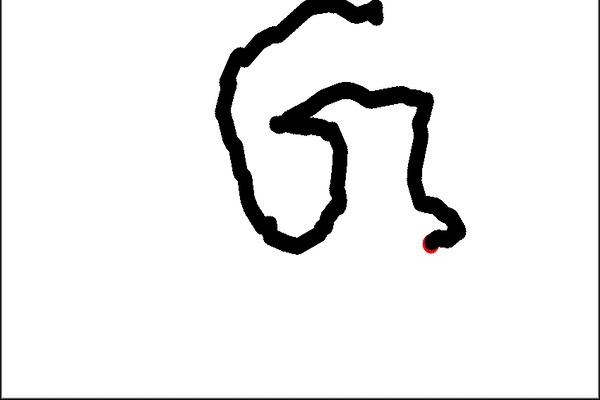G: (208, 0, 468, 265)
